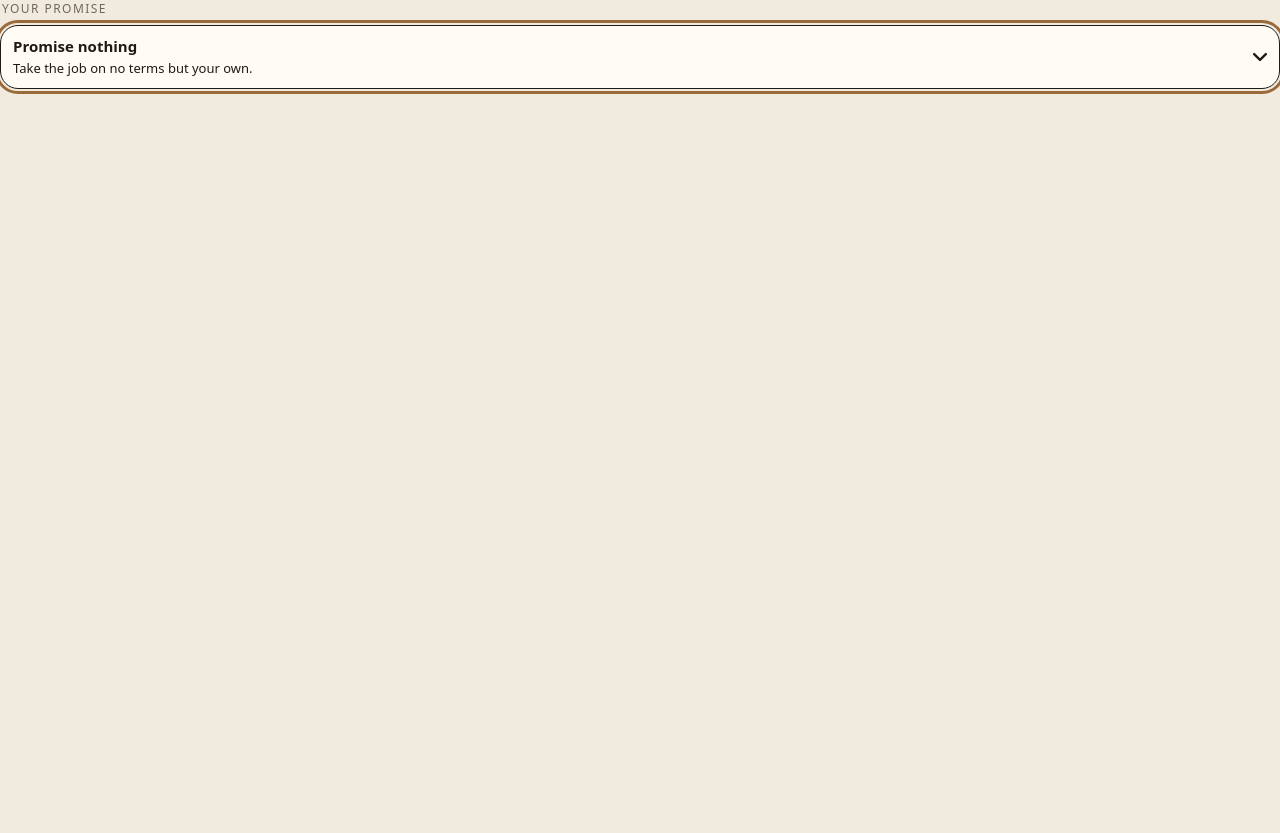
Test case: a second promise › is asked for only once a first is made, and goes with it
The width and height of the screenshot is (1280, 833).
Later steps or results of the test are not shown.
Expected: the text "A second promise" is not shown
Click the button with class "mandate-current" at (75, 46), box [0,25,1279,89]
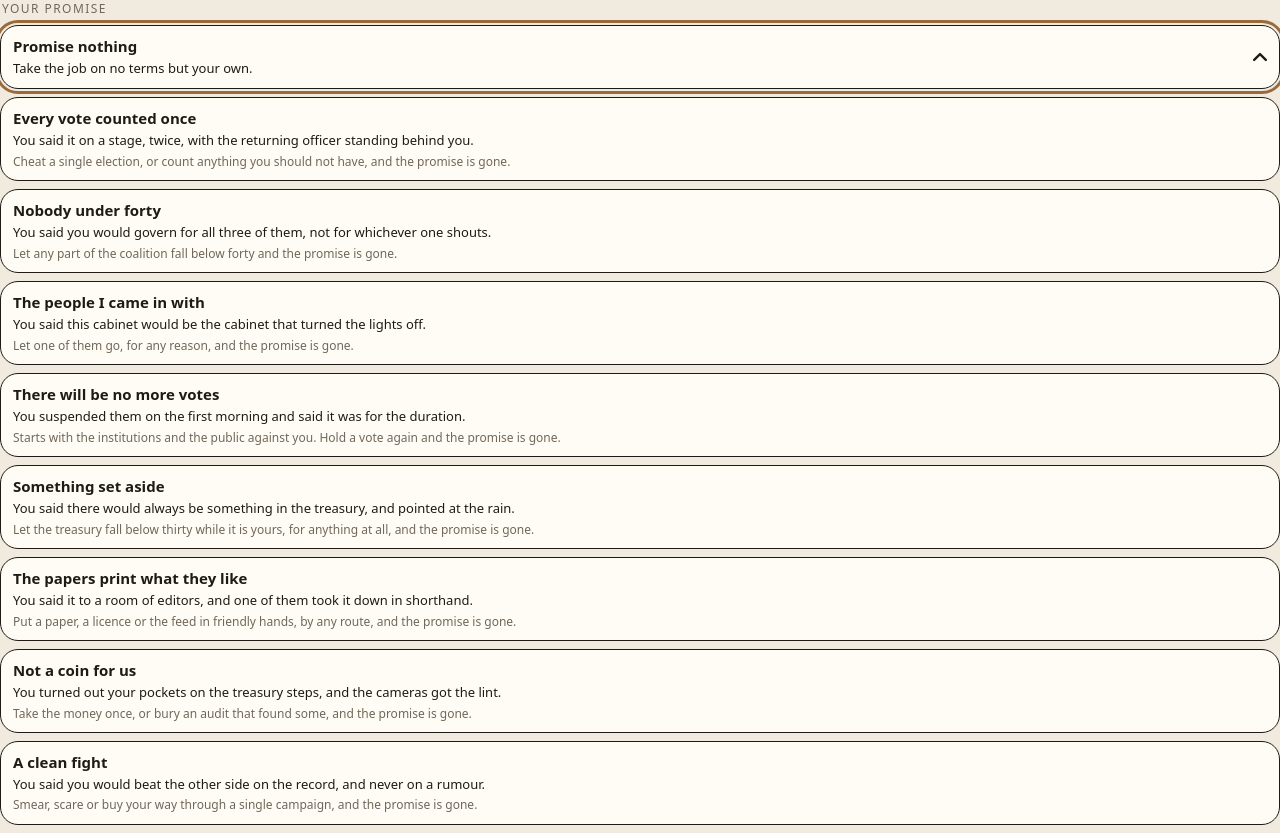
Click the button "Nobody under forty" at (87, 210), box [0,189,1279,273]
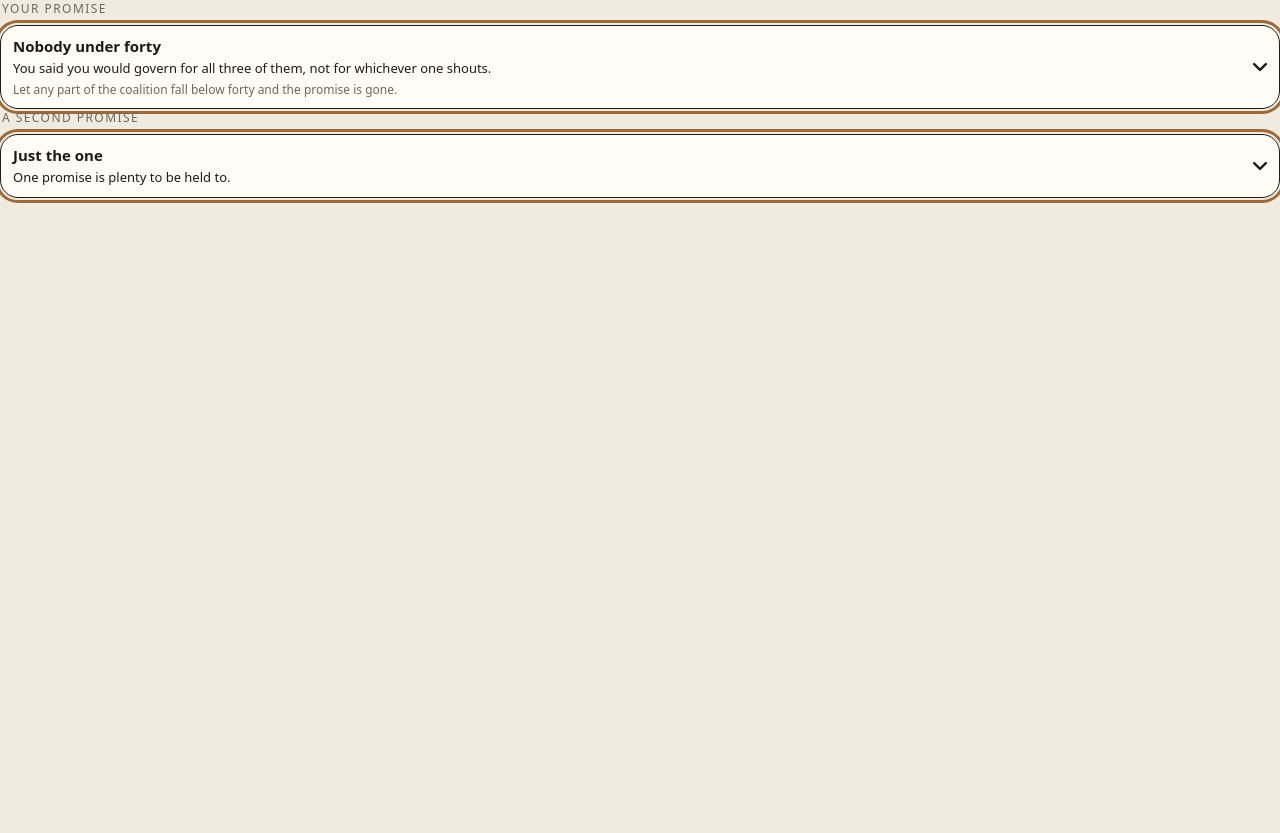
Expected: the text "A second promise" is shown, [2,109,139,126]
Expected: the button with class "mandate-current" shows "Just the one", [0,134,1279,198]
